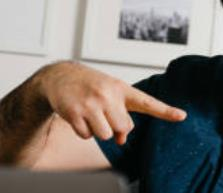up: (55, 59, 190, 146)
